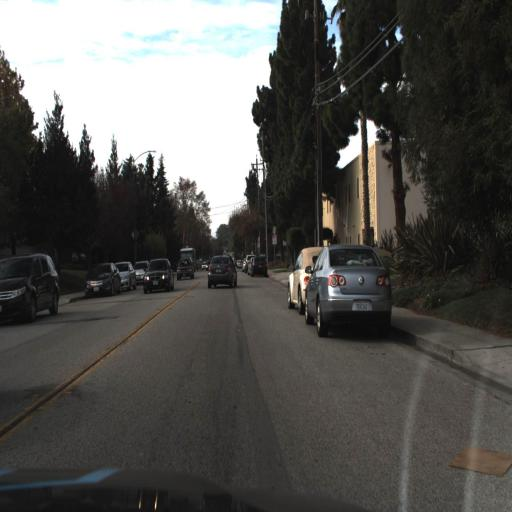car: (305, 241, 393, 337), (0, 247, 63, 329), (0, 251, 61, 317), (284, 241, 314, 326), (79, 258, 121, 306), (141, 249, 176, 301), (202, 251, 241, 293), (141, 255, 175, 294), (84, 264, 122, 295), (207, 256, 237, 289), (172, 257, 195, 282), (248, 253, 271, 278), (119, 260, 134, 295)
truck: (179, 244, 196, 265)
